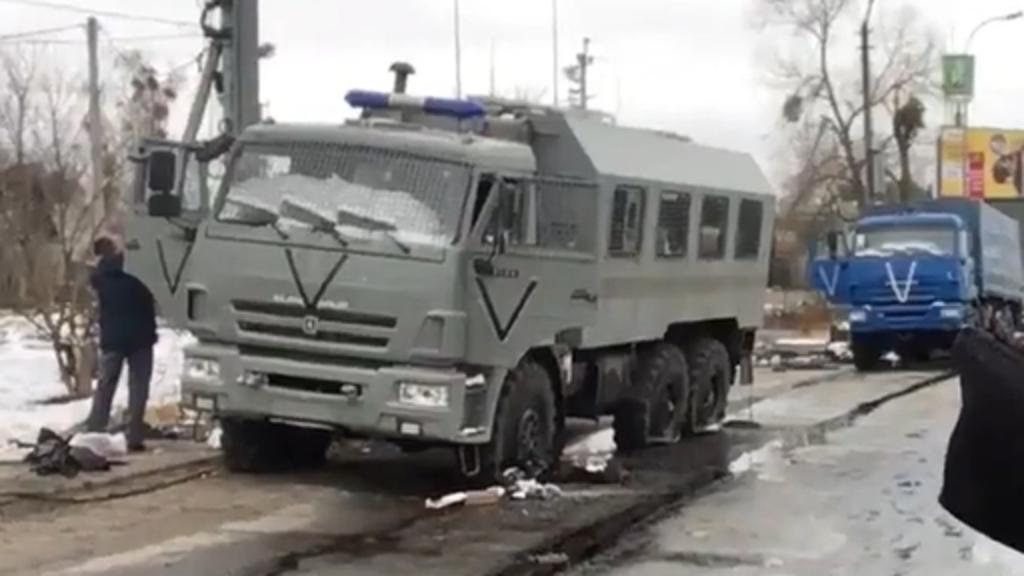TRUCK: (162, 86, 766, 480), (806, 188, 1022, 364)
